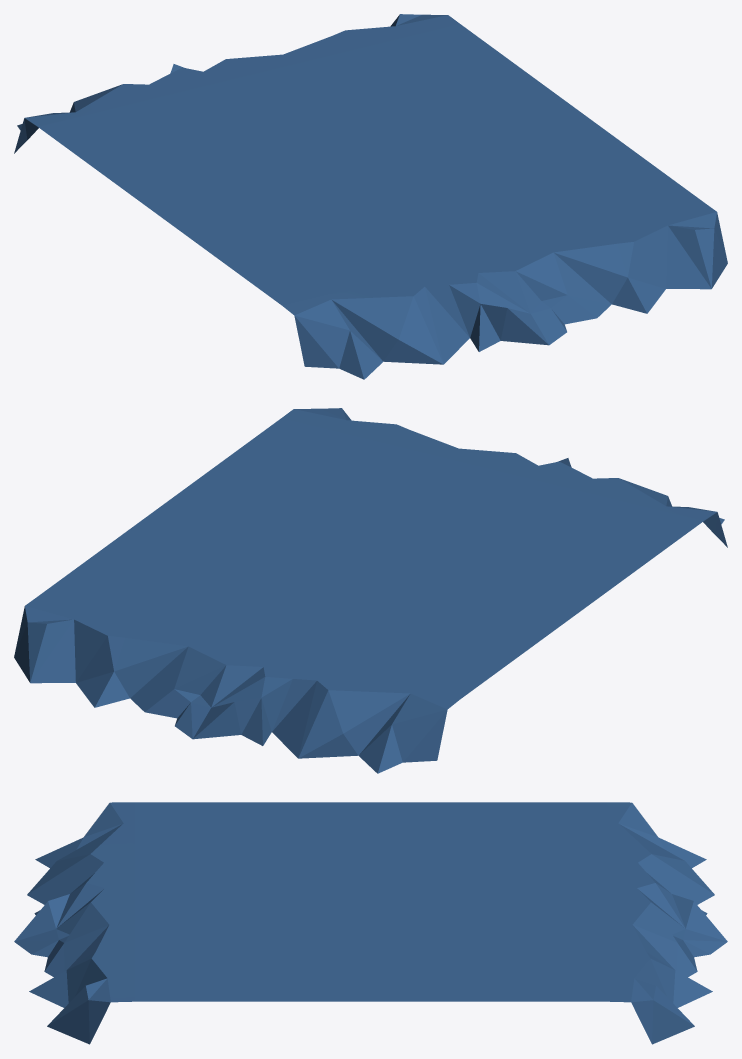
The model's file is PlatformBorder_01 (1).fbx.
3 views of the same model, one above another, from view 1: azimuth 30°, elevation 25°; view 2: azimuth 150°, elevation 25°; view 3: azimuth 270°, elevation 25° (orthographic). The views are drawn at different scales.
Visible parts, largest first — view 1: polySurface4, polySurface3, polySurface7, polySurface19, polySurface11, polySurface13, polySurface23, polySurface39, polySurface43, polySurface45, polySurface49, polySurface52 (+15 smaller); view 2: polySurface3, polySurface4, polySurface11, polySurface19, polySurface5, polySurface7, polySurface15, polySurface35, polySurface39, polySurface47, polySurface49, polySurface51 (+15 smaller); view 3: polySurface3, polySurface4, polySurface9, polySurface7, polySurface11, polySurface5, polySurface13, polySurface19, polySurface29, polySurface39, polySurface49, polySurface15 (+15 smaller).
Boxes of the visible parts, x1,y1,x2,y2 form: polySurface4: [282, 202, 727, 379]; polySurface3: [14, 14, 459, 153]; polySurface7: [184, 213, 316, 269]; polySurface19: [474, 95, 605, 151]; polySurface11: [87, 142, 219, 198]; polySurface13: [38, 106, 170, 162]; polySurface23: [571, 166, 703, 222]; polySurface39: [304, 136, 437, 192]; polySurface43: [207, 65, 339, 121]; polySurface45: [317, 228, 450, 284]; polySurface49: [220, 157, 352, 213]; polySurface52: [171, 121, 303, 177]; polySurface3: [14, 596, 459, 773]; polySurface4: [282, 408, 727, 547]; polySurface11: [425, 607, 557, 663]; polySurface19: [136, 489, 267, 545]; polySurface5: [571, 500, 703, 556]; polySurface7: [522, 536, 654, 592]; polySurface15: [38, 560, 170, 616]; polySurface35: [402, 459, 534, 515]; polySurface39: [304, 530, 437, 586]; polySurface47: [438, 515, 570, 571]; polySurface49: [389, 551, 521, 607]; polySurface51: [291, 622, 424, 678]; polySurface3: [607, 802, 727, 1044]; polySurface4: [14, 802, 134, 1044]; polySurface9: [323, 802, 418, 842]; polySurface7: [229, 802, 323, 842]; polySurface11: [418, 802, 512, 842]; polySurface5: [135, 802, 229, 842]; polySurface13: [512, 802, 606, 842]; polySurface19: [323, 962, 418, 1001]; polySurface29: [323, 922, 418, 961]; polySurface39: [323, 882, 418, 921]; polySurface49: [323, 842, 418, 881]; polySurface15: [512, 962, 606, 1001].
Bounding box in the file's own units: 1002 × 99.72 × 1513.
